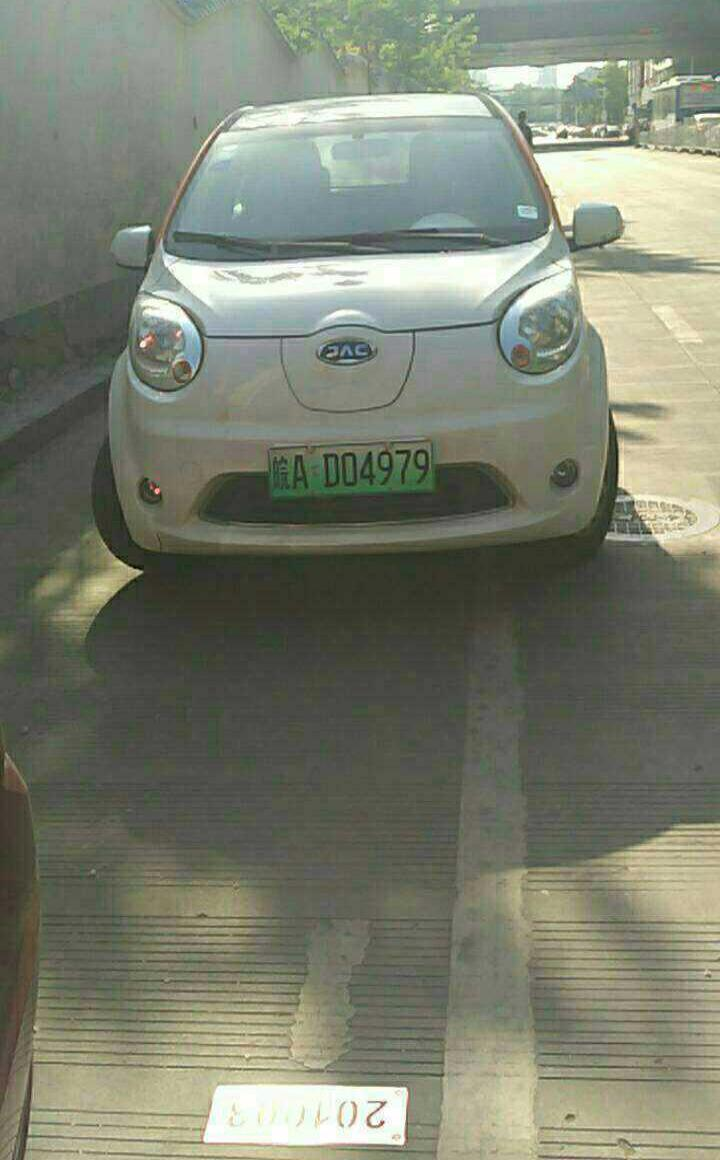car_green: (264, 443, 449, 500)
